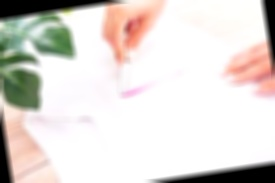lipstick: (117, 75, 193, 101)
